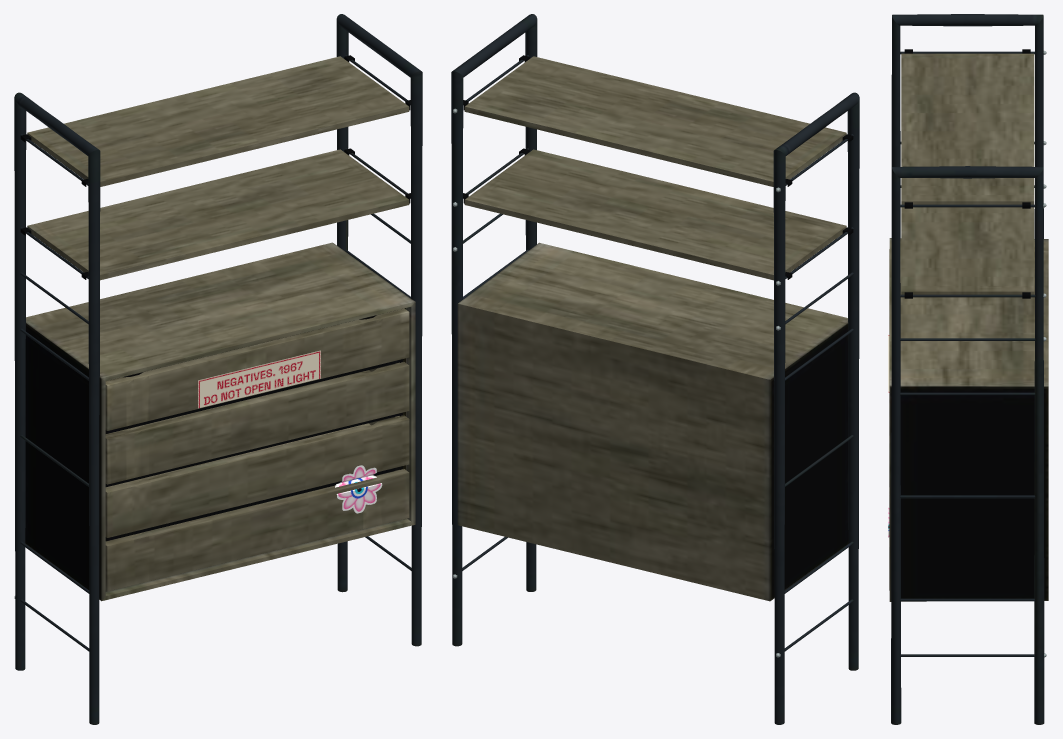
Rendered from nyb_wud_cabinet.glb.
3 renders of one model, left to right at view 1: azimuth 30°, elevation 25°; view 2: azimuth 150°, elevation 25°; view 3: azimuth 270°, elevation 25°, orthographic. The views are drawn at different scales.
Visible parts, largest first — view 1: drawer_cabinet, stk_lbl_8cf871dce2.png, stk_eyeflower_die.png; view 2: drawer_cabinet; view 3: drawer_cabinet.
Boxes of the visible parts, left/top/right/bottom form: drawer_cabinet: left=14, top=14, right=422, bottom=724; stk_lbl_8cf871dce2.png: left=198, top=350, right=320, bottom=408; stk_eyeflower_die.png: left=335, top=465, right=382, bottom=513; drawer_cabinet: left=451, top=14, right=859, bottom=724; drawer_cabinet: left=889, top=14, right=1048, bottom=724.
Bounding box in the file's own units: 1.14 × 1.88 × 0.4906.
3 materials, 3 textured.
